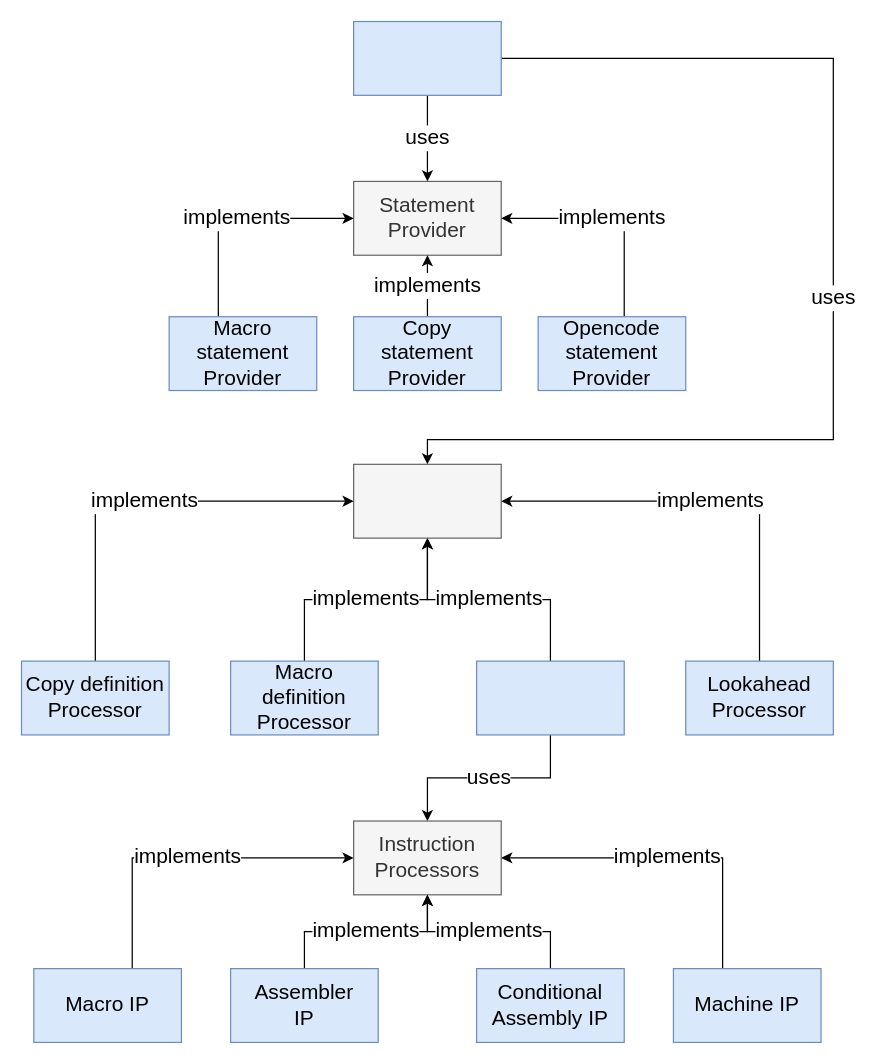
Image size: 877x1064. Some labels were removed from this diagram. Each missing label, with the centre of its shape:
Opencode Processor: the point at 549,697
Processing Manager: the point at 426,57
Statement Processors: the point at 426,500
